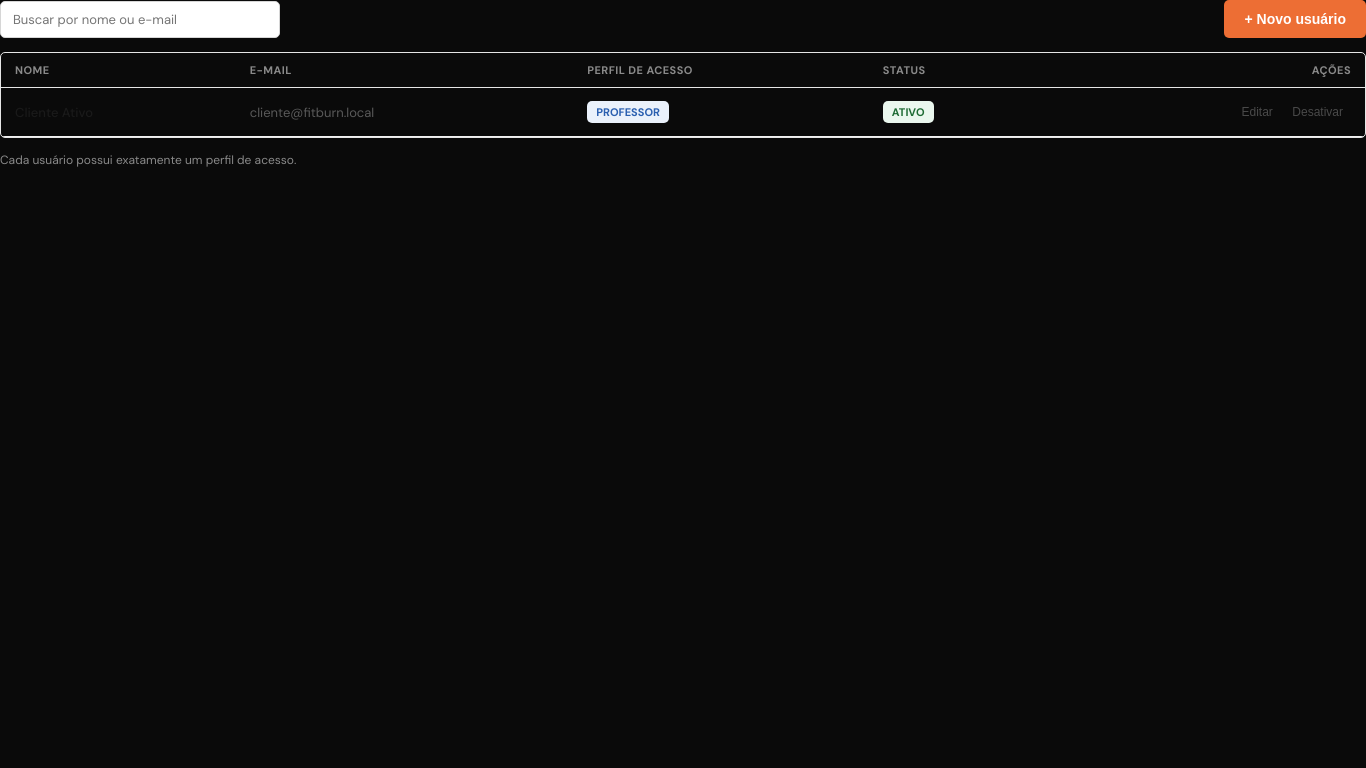
UsersPage › edita o nome e o perfil de acesso de um usuário
Click the button with aria-label "Editar Cliente Ativo" at (1257, 112), box x1=1234 y1=100 x2=1281 y2=124
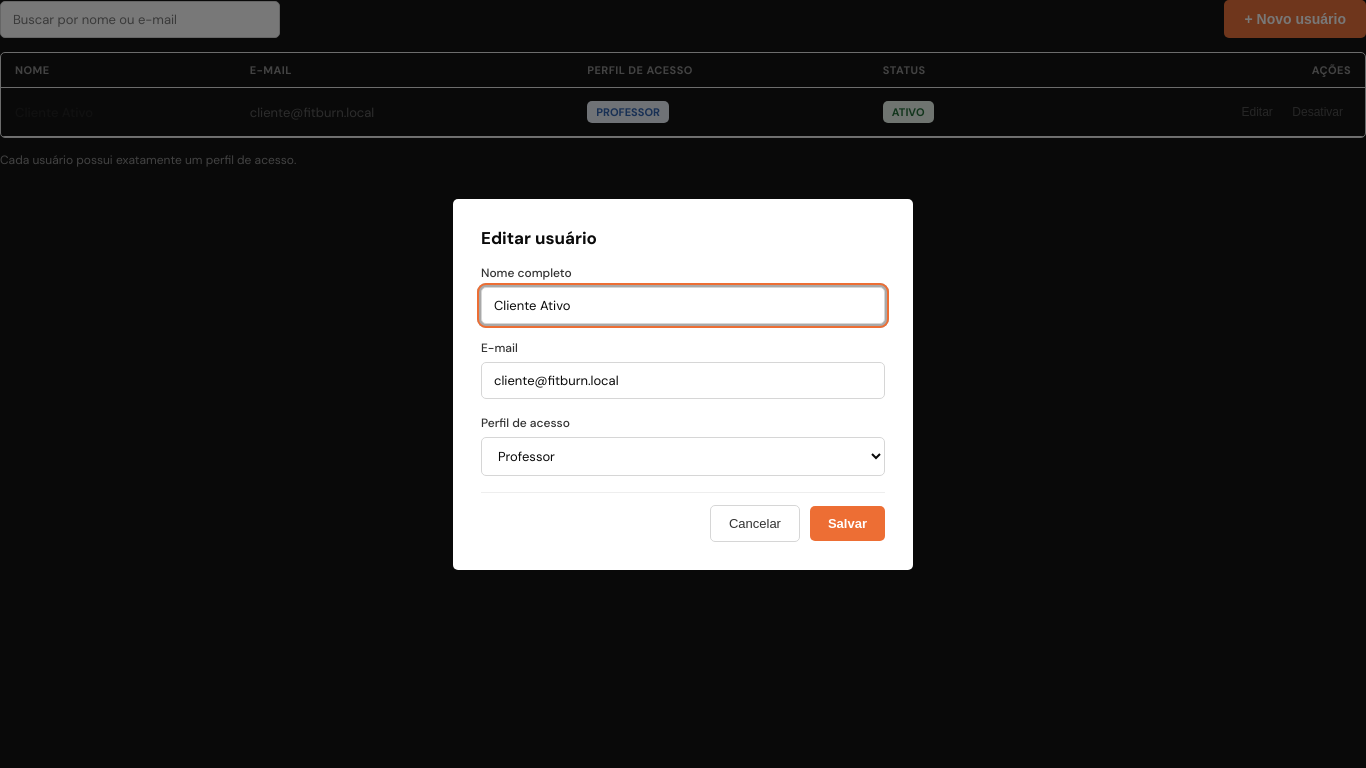
Replace the text in the field labelled "Nome completo" with "Nome Novo" at (683, 305), box x1=481 y1=286 x2=885 y2=324
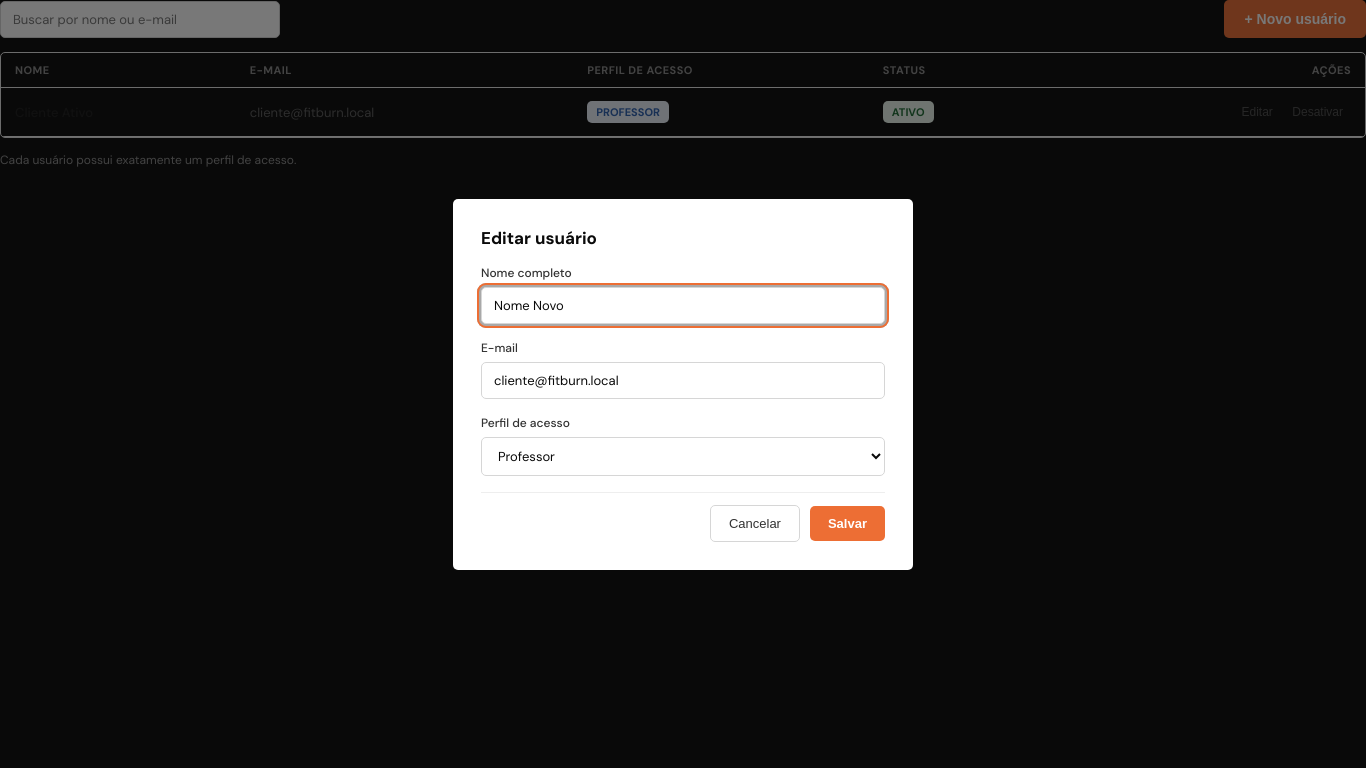
Click the button "Salvar" at (848, 523), box x1=810 y1=506 x2=885 y2=540
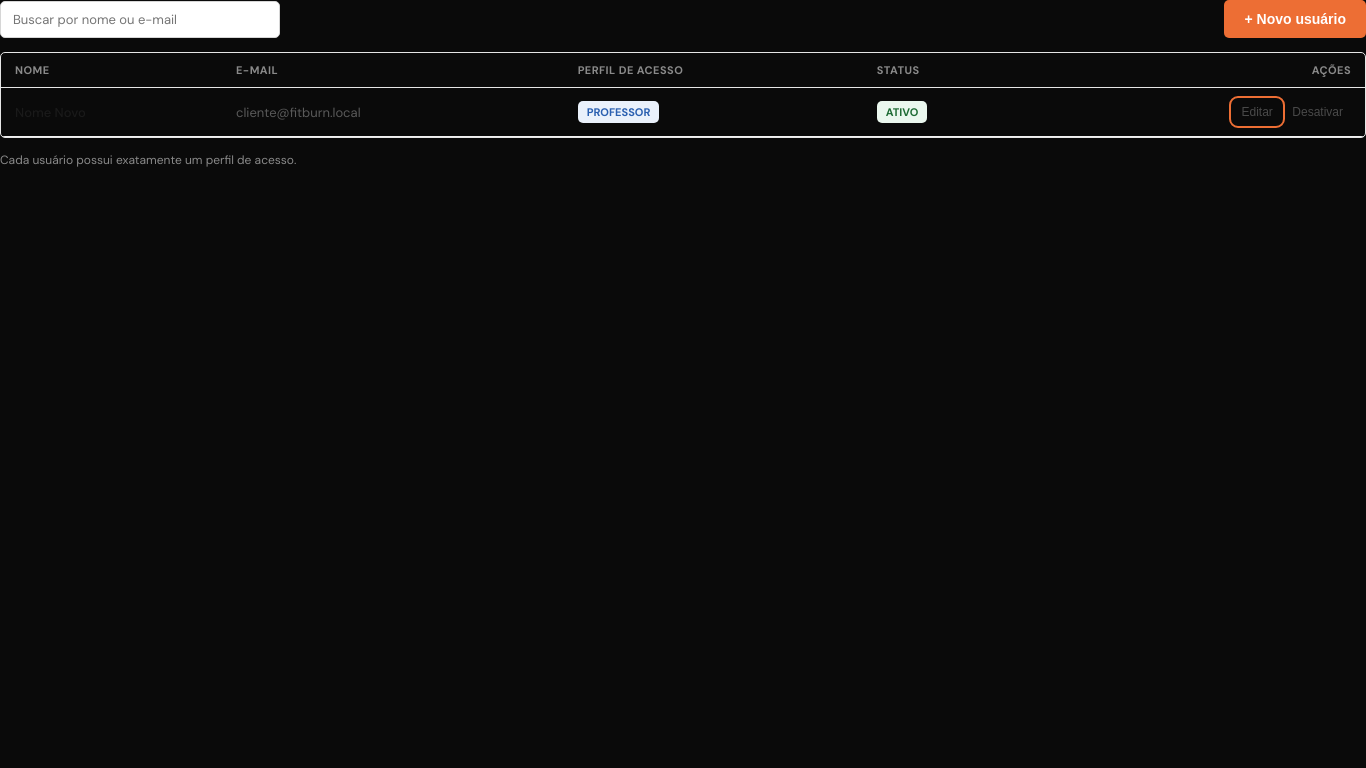
Now the text "Nome Novo" is shown, box x1=1 y1=88 x2=222 y2=136
